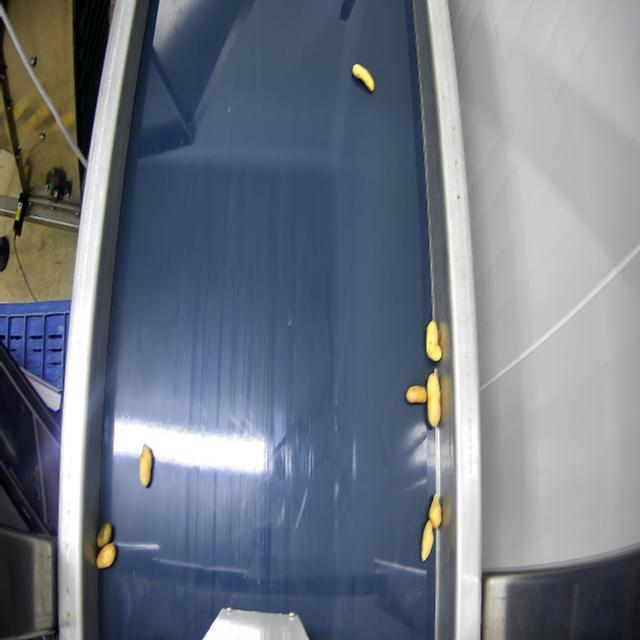Baby Potato: (426, 373, 440, 427), (426, 320, 441, 360), (352, 64, 373, 91), (139, 445, 152, 486), (421, 520, 433, 560), (96, 543, 115, 567), (428, 494, 441, 528), (96, 522, 111, 547), (406, 385, 426, 402)
